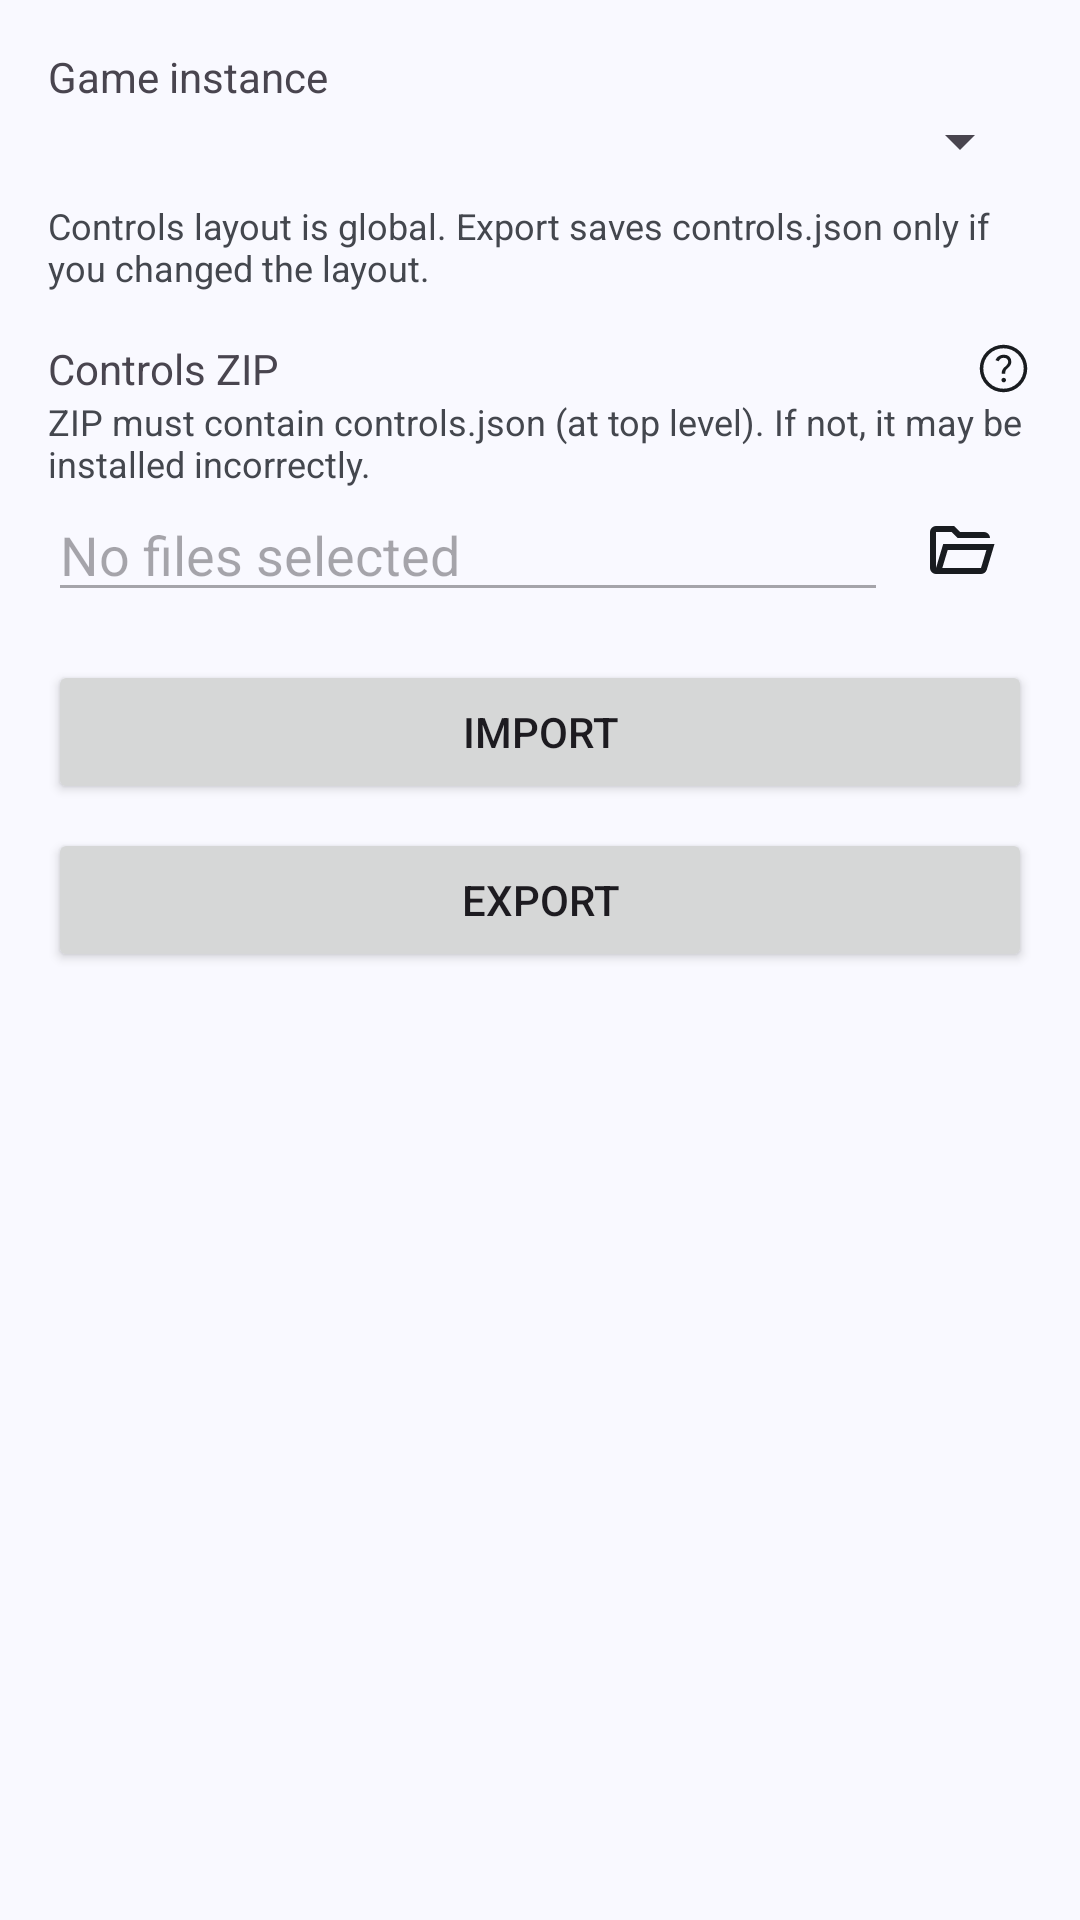

Icon click points for this 1080 × 1920 phone screenshot, format (x=x, y=y):
folder open: (x=962, y=550)
help: (x=1003, y=368)
